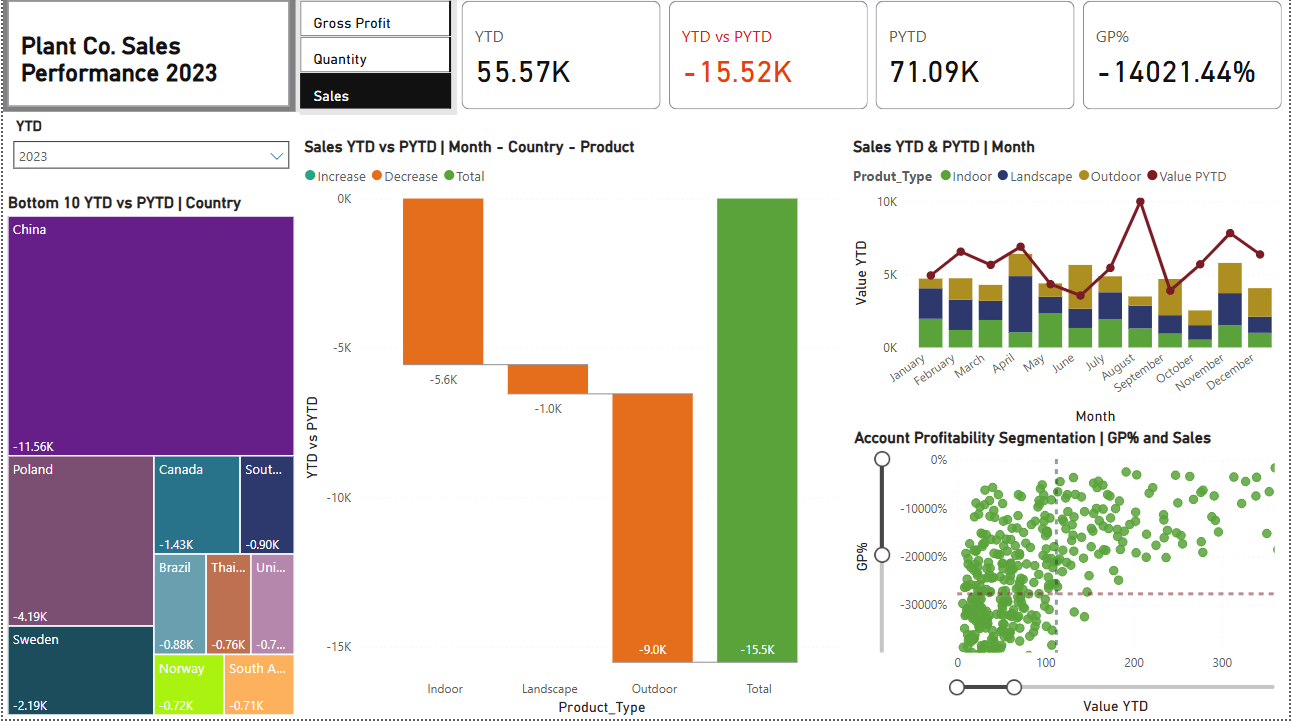

The page's visual inventory and layout, read from the dashboard file:
{"tool":"powerbi","page":{"name":"Page 1","canvas":[1280,720],"ordinal":0},"visuals":[{"type":"cardVisual","fields":{"Data":["_Measures.S_YTD","_Measures.YTD vs PYTD","_Measures.S_PYTD","_Measures.GP%"]},"box":[451.5,0,828.8,118],"z":0},{"type":"advancedSlicerVisual","fields":{"Values":["Slc_Values.Values"]},"box":[290.9,0,160.5,118],"z":1},{"type":"slicer","fields":{"Values":["Dim_Date.Date.Variation.Date Hierarchy.Year"]},"box":[0,115.3,295,81],"z":3},{"type":"treemap","title":"Bottom 10 YTD vs PYTD | Country","fields":{"Group":["Dim_Account.country"],"Values":["_Measures.YTD vs PYTD"]},"box":[0,196.2,295,524.2],"z":4},{"type":"waterfallChart","fields":{"Y":["_Measures.YTD vs PYTD"],"Category":["Dim_Date.Date.Variation.Date Hierarchy.Month","Dim_Account.country","Dim_Product.Produt_Type","Dim_Product.Product_Name"]},"box":[295,140,546.1,580.4],"z":5},{"type":"lineStackedColumnComboChart","fields":{"Y":["_Measures.S_YTD"],"Y2":["_Measures.S_PYTD"],"Category":["Dim_Date.Date.Variation.Date Hierarchy.Quarter","Dim_Date.Date.Variation.Date Hierarchy.Month"],"Series":["Dim_Product.Produt_Type"]},"box":[841.2,140,439.1,290.9],"z":6},{"type":"scatterChart","fields":{"Y":["_Measures.GP%"],"X":["_Measures.S_YTD"],"Category":["Dim_Account.Account"]},"box":[842,431,438,289],"z":7},{"type":"cardVisual","fields":{"Data":["_Measures._Report title"]},"box":[0,0,290.9,115.3],"z":8}]}

Visuals, with their boxes in screenshot pixels (x1, y1, x2, y2), scaled from the page's 1280x720 canvas onto the 1292x722 screenshot:
cardVisual - _Measures.S_YTD x _Measures.YTD vs PYTD: 456,0,1291,118
advancedSlicerVisual - Slc_Values.Values: 294,0,456,118
slicer - Dim_Date.Date.Variation.Date Hierarchy.Year: 0,116,298,197
"Bottom 10 YTD vs PYTD | Country" treemap: 0,197,298,721
waterfallChart - _Measures.YTD vs PYTD x Dim_Date.Date.Variation.Date Hierarchy.Month: 298,140,849,721
lineStackedColumnComboChart - _Measures.S_YTD x _Measures.S_PYTD: 849,140,1291,432
scatterChart - _Measures.GP% x _Measures.S_YTD: 850,432,1291,721
cardVisual - _Measures._Report title: 0,0,294,116
